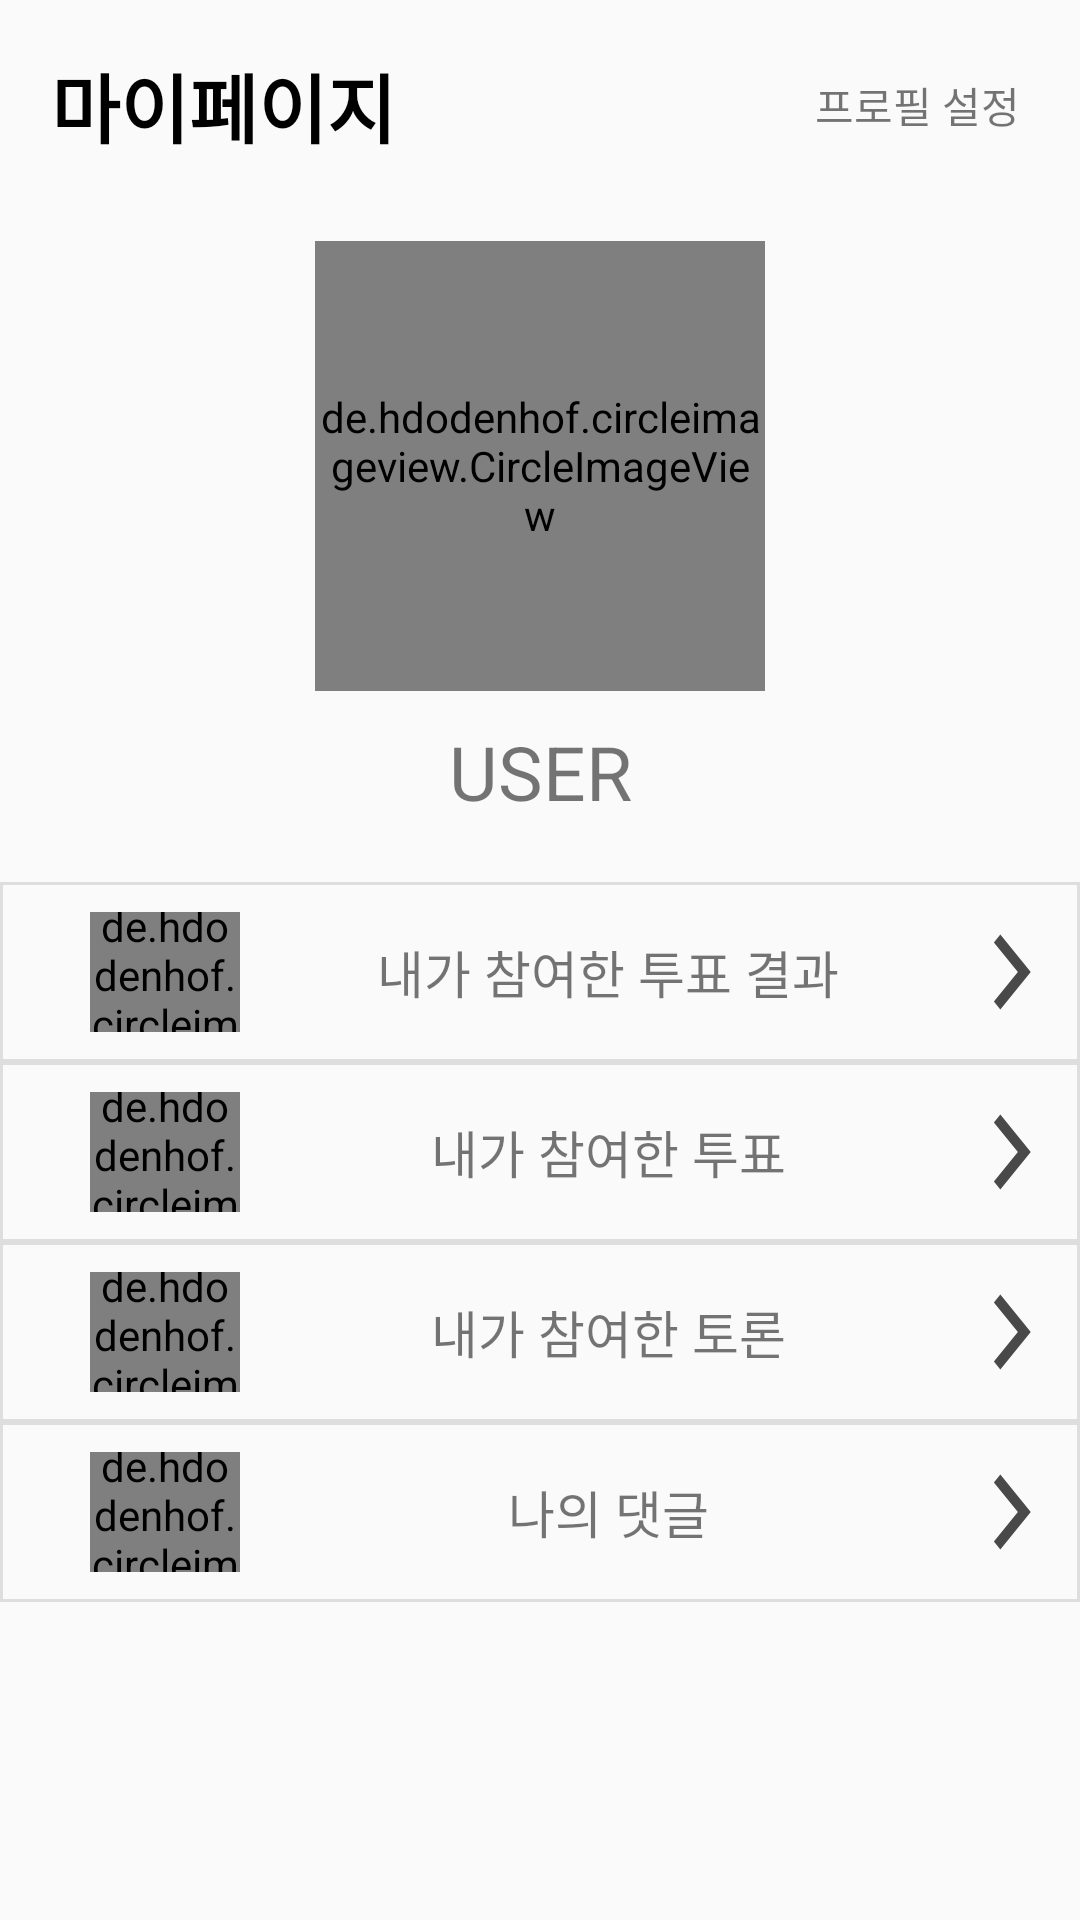

Icon click points for this 1080 × 1920 phone screenshot, format (x,y):
arrow forward: (1012,972), (1012,1152), (1012,1332), (1012,1512)
